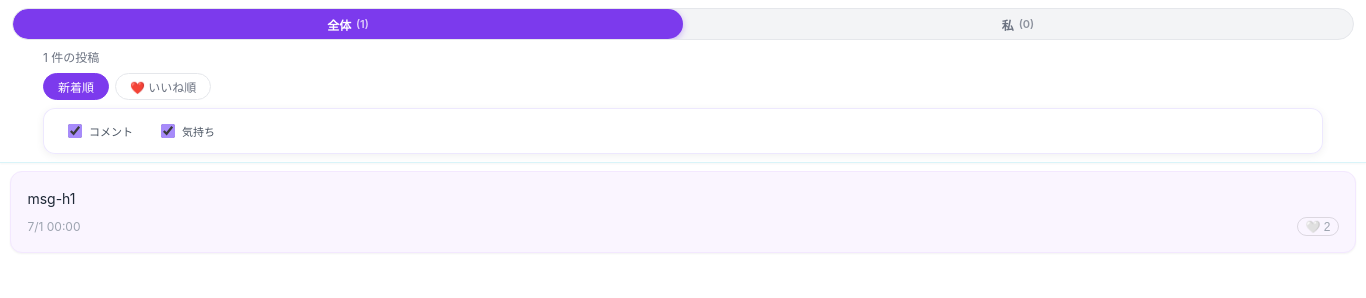
LogListBody like mutations › rolls back and shows error on failure
Click the button named "いいね". click: {"x": 1318, "y": 227}
box: [1297,217,1339,236]
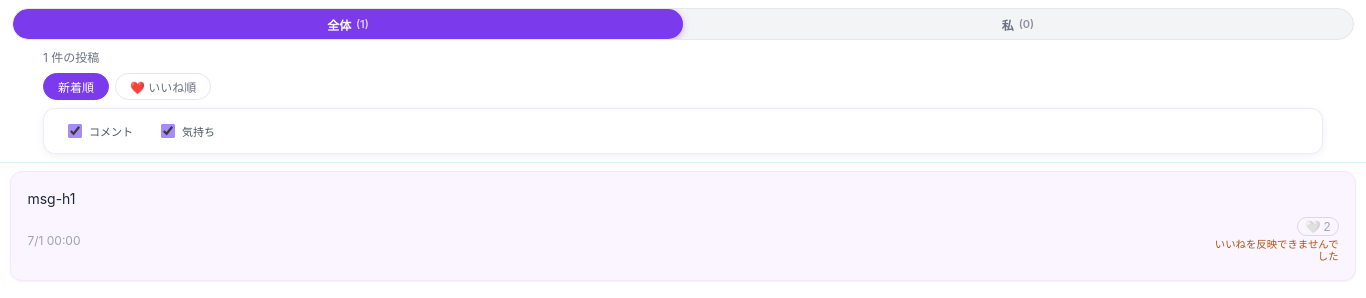
Expected: the message reads "いいねを反映できませんでした", [1215,238,1339,263]
